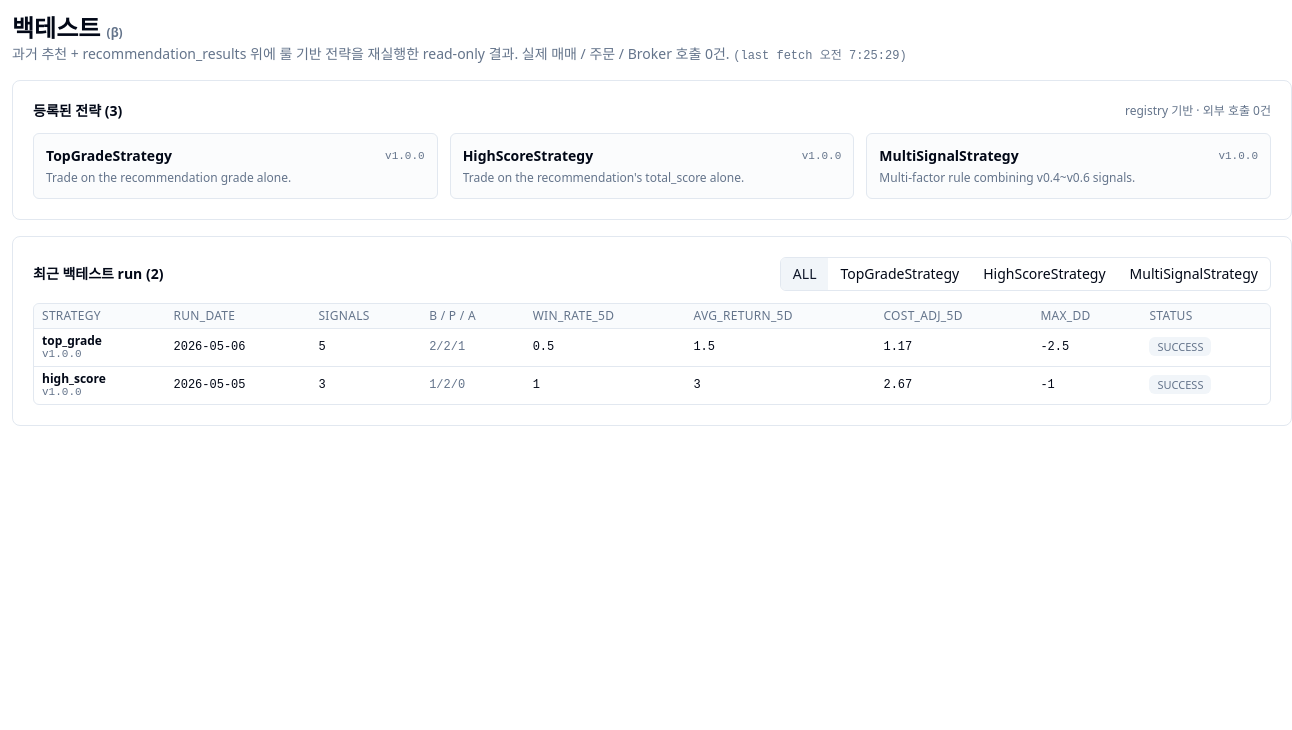
Scenario: BacktestPage — walk-forward folds (v0.12 Phase D) › shows empty placeholder when no fold data
This screenshot has width=1292, height=730.
What coordinates should you click on to do the following:
click the row with test id "backtest-run-row-42"
I would click on:
 (652, 347)
Its box is [34, 328, 1270, 366].
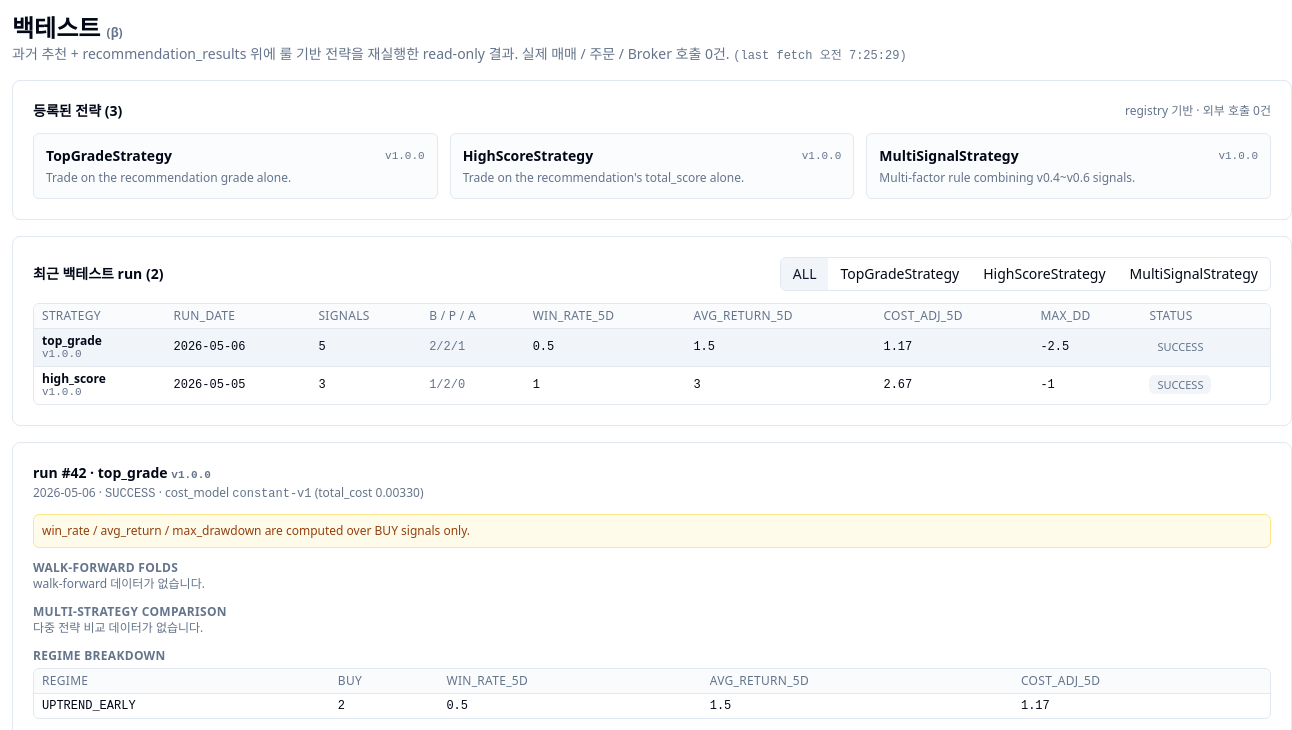
Expected: the element with test id "backtest-folds-empty" is shown, [33, 558, 205, 592]
